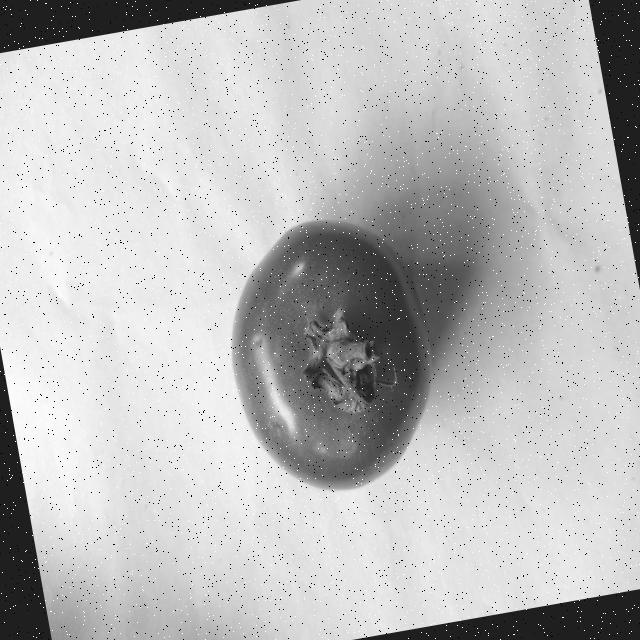Ripe: (203, 203, 452, 510)
